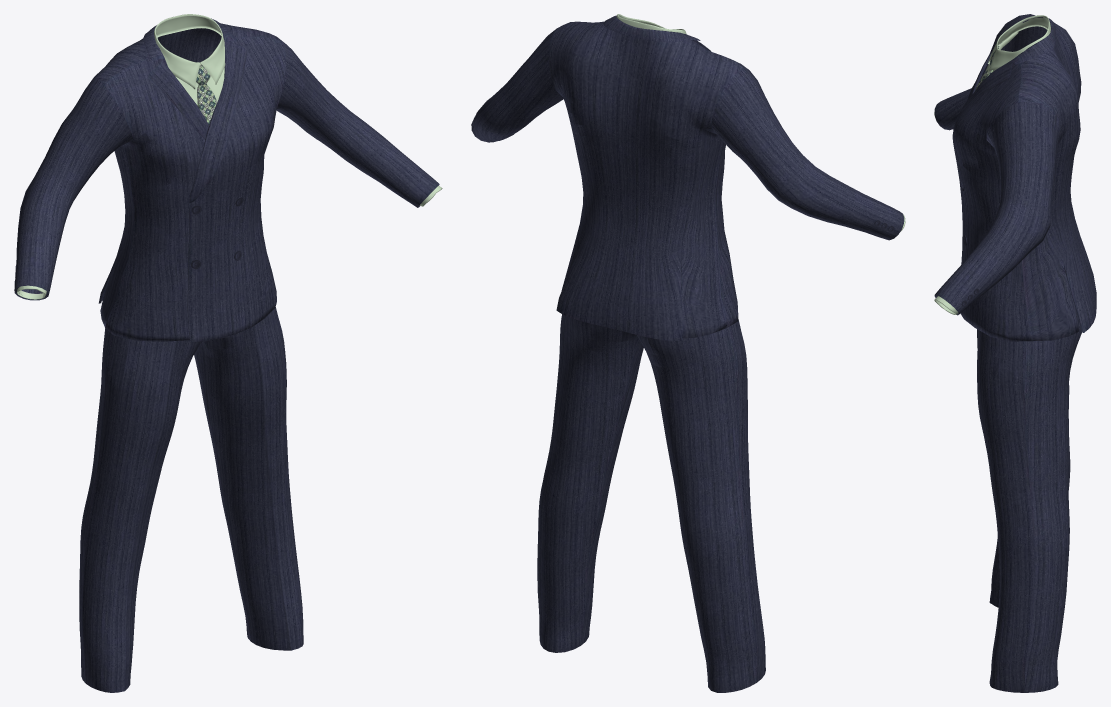
Rendered from toigo-male-double-breasted-suit.glb.
3 views of the same model, side by side, from view 1: azimuth 30°, elevation 25°; view 2: azimuth 150°, elevation 25°; view 3: azimuth 270°, elevation 25° (orthographic). The views are drawn at different scales.
Parts seen in each view (by area): view 1: male double-breasted suit; view 2: male double-breasted suit; view 3: male double-breasted suit.
Boxes of the visible parts, left/top/right/bottom form: male double-breasted suit: left=14, top=14, right=442, bottom=692; male double-breasted suit: left=471, top=14, right=905, bottom=692; male double-breasted suit: left=934, top=14, right=1096, bottom=692.
Bounding box in the file's own units: 102 × 146 × 34.52.
Materials: 1 (1 with a texture image).
